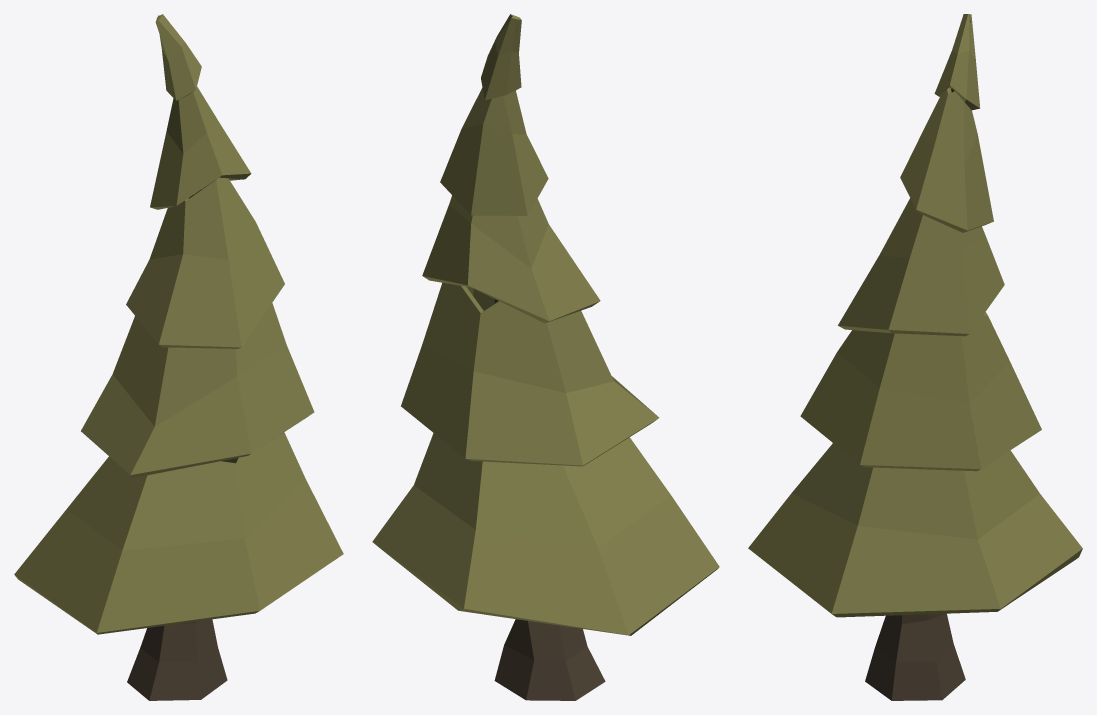
File: Tree_Pine3x.fbx
3 views of the same model, side by side, from view 1: azimuth 30°, elevation 25°; view 2: azimuth 150°, elevation 25°; view 3: azimuth 270°, elevation 25° (orthographic). The views are drawn at different scales.
Parts seen in each view (by area): view 1: Cylinder.010; view 2: Cylinder.010; view 3: Cylinder.010.
Boxes of the visible parts, box(x1,y1,x2,y2) form: Cylinder.010: box(14, 14, 343, 700); Cylinder.010: box(372, 14, 719, 700); Cylinder.010: box(748, 14, 1082, 700).
Size of the model in its own units: 273 by 681 by 307.
